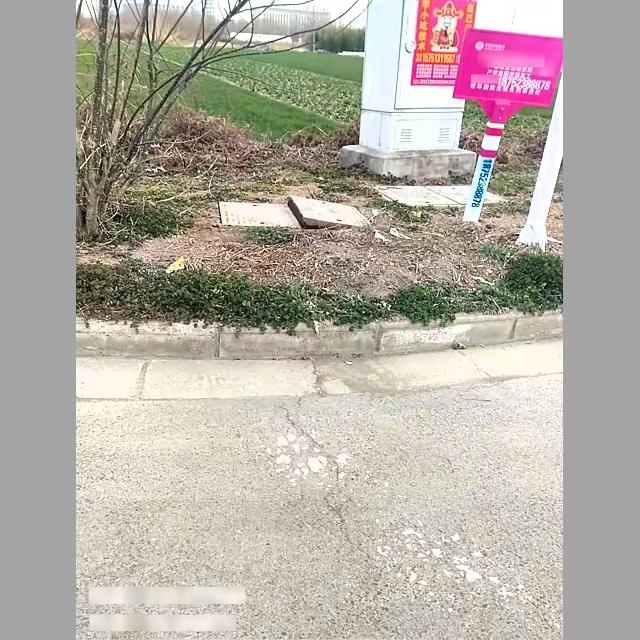uncovered: (214, 193, 373, 235)
